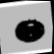correct: (10, 15, 52, 46)
